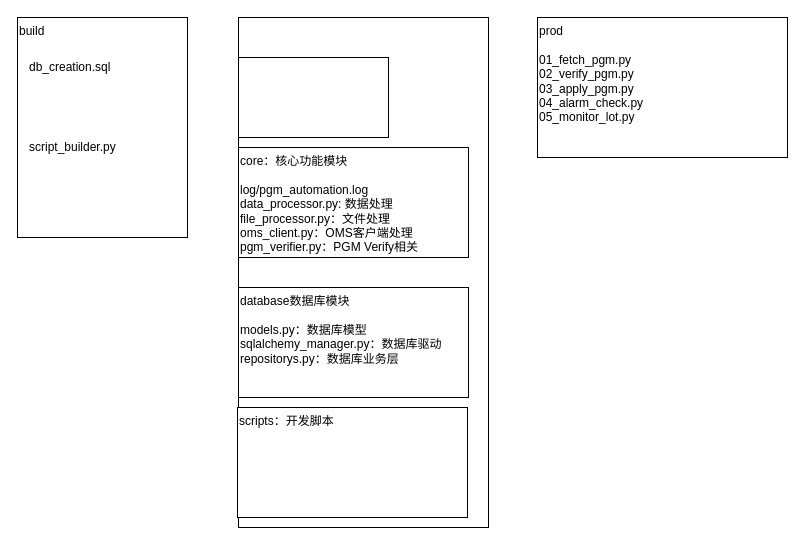
Image size: 805x545. Some labels were removed from this diagram. Each missing label, with the box of its shape:
config：配置文件: (238, 56, 388, 138)
dev: (238, 16, 488, 528)
